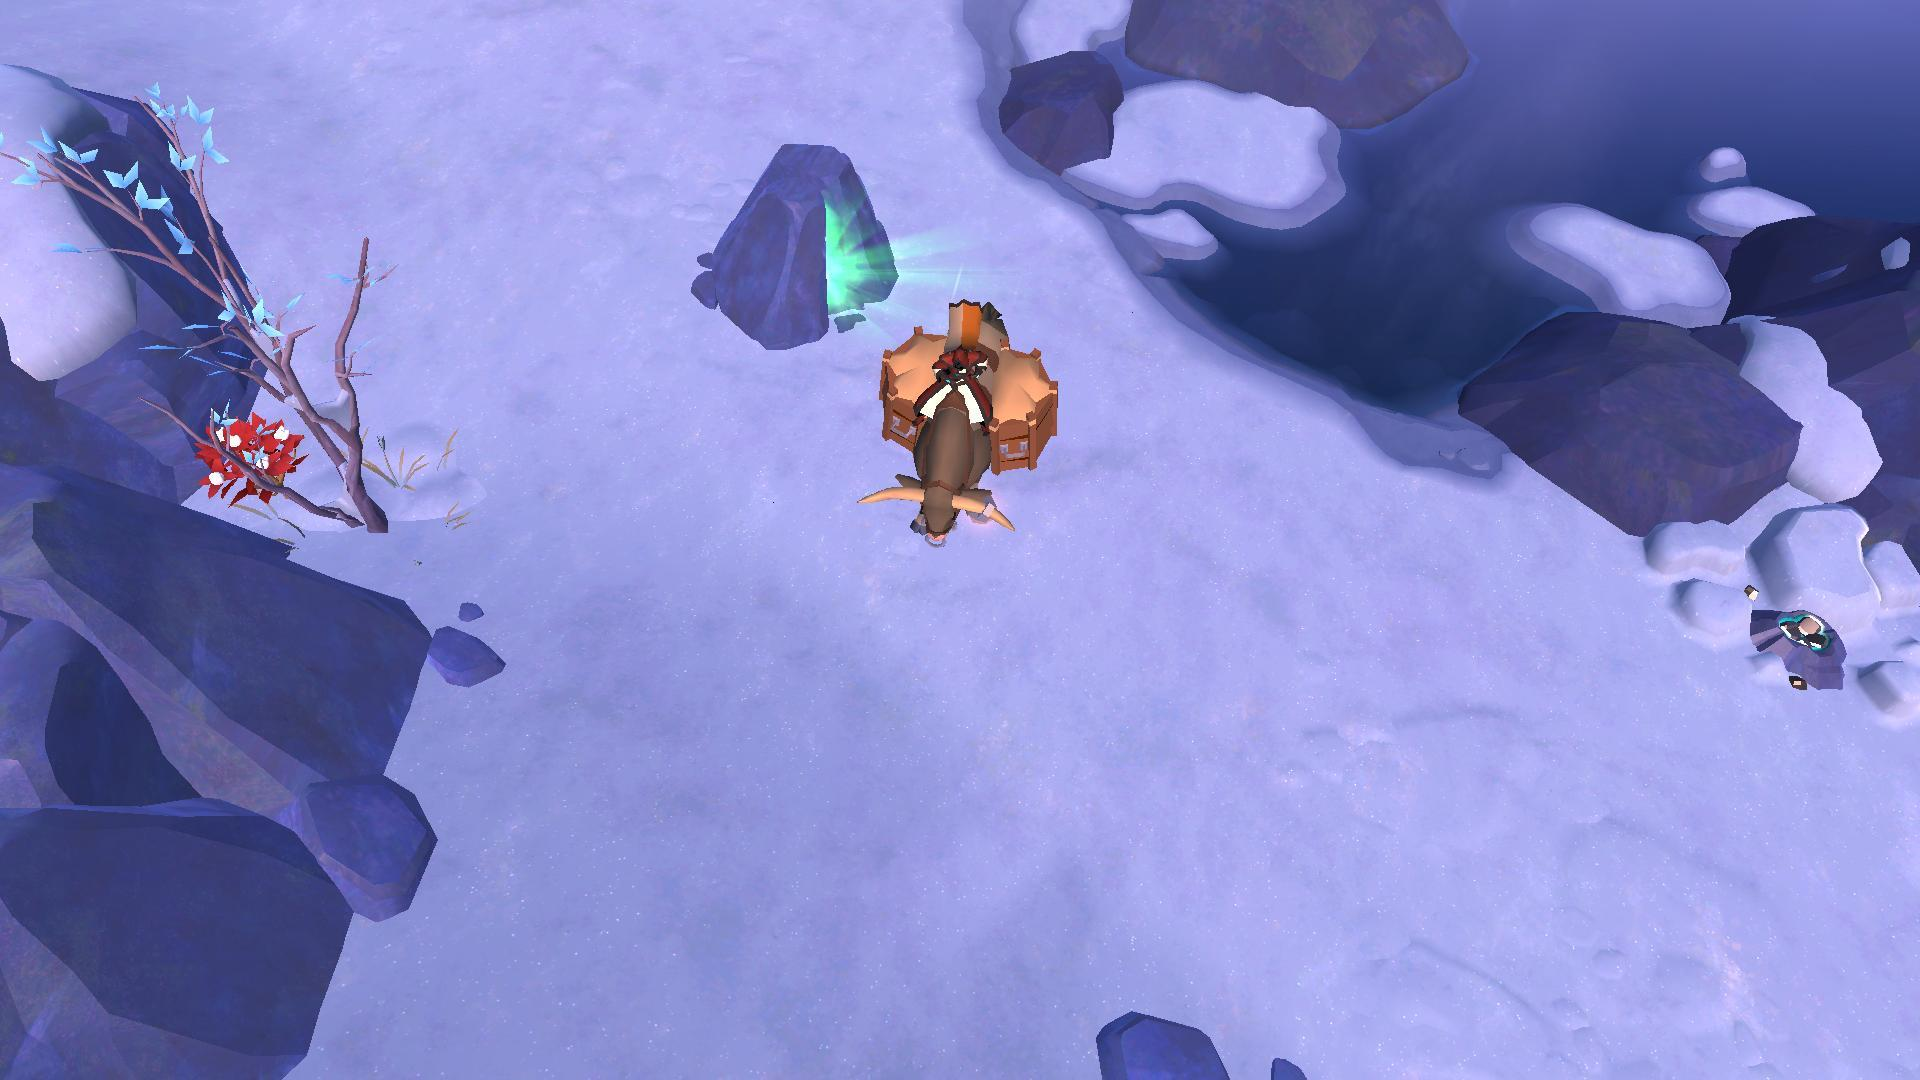fiber_t5: (199, 409, 301, 504)
